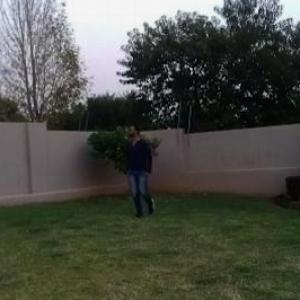follow: (124, 121, 158, 226)
